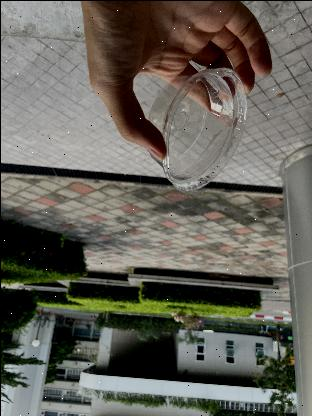Others: (144, 65, 246, 193)
